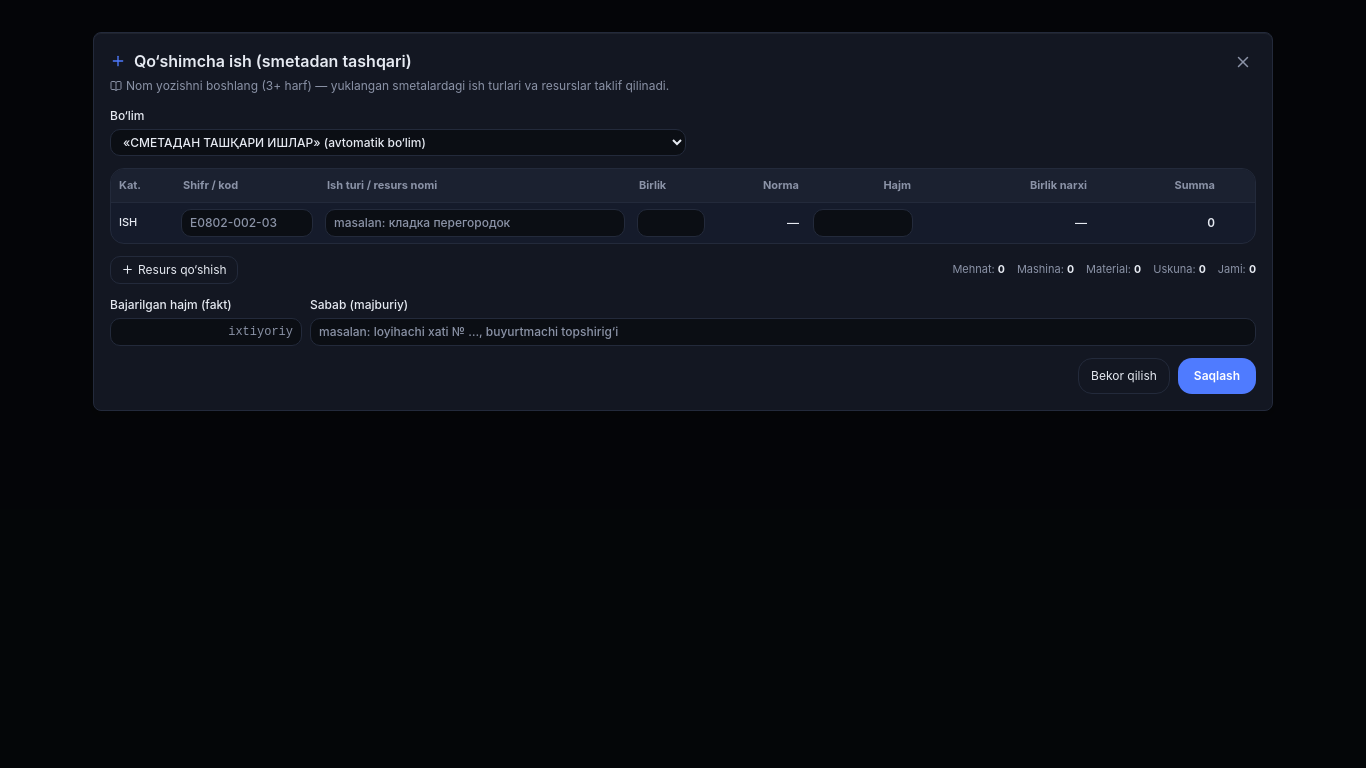
it: IshAbcModal (kichik ABC) › qo‘lda narx — manba "qo‘lda"; xato bo‘lsa saqlanmaydi va sabablar ko‘rsatiladi
Click the button "Resurs qo‘shish" at (174, 270), box [110,256,238,284]
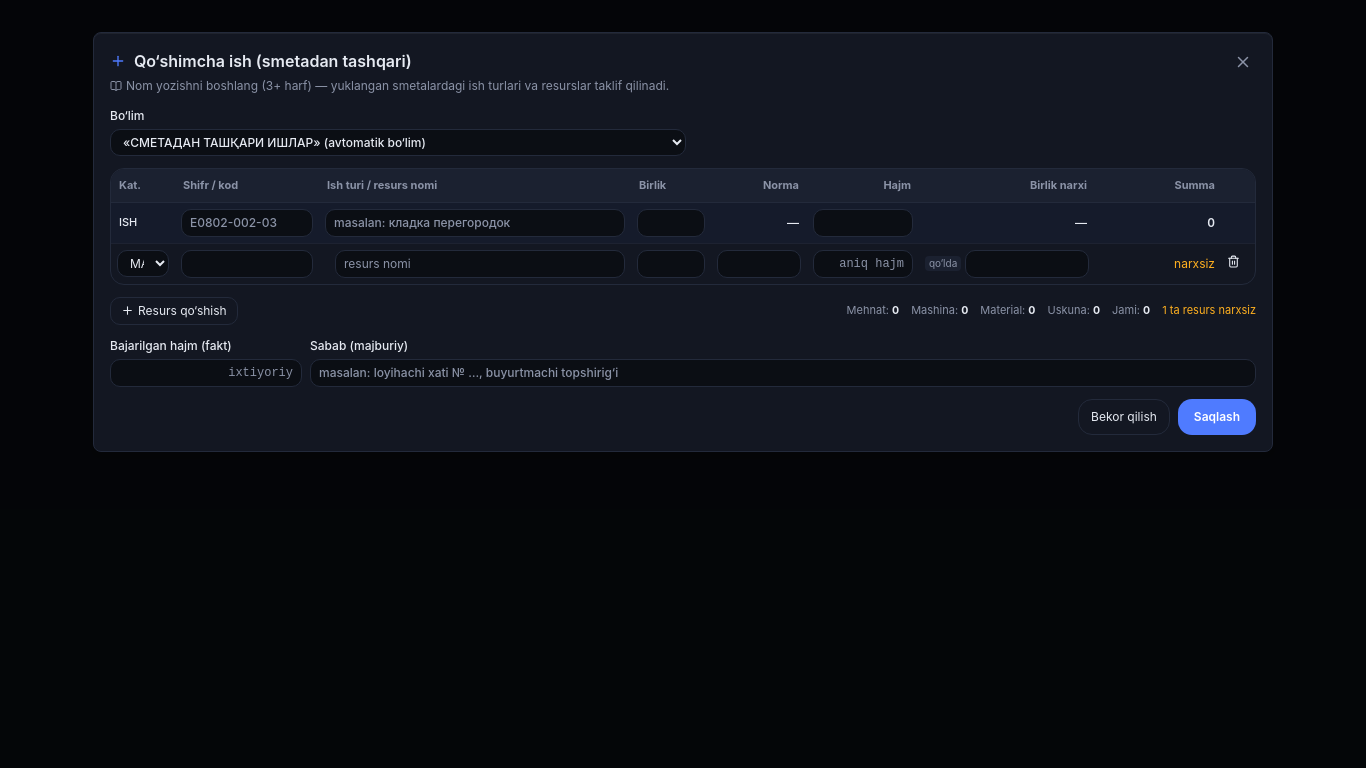
Type "500" into the field named "1-resurs narxi" at (1027, 264), box [965,250,1089,278]
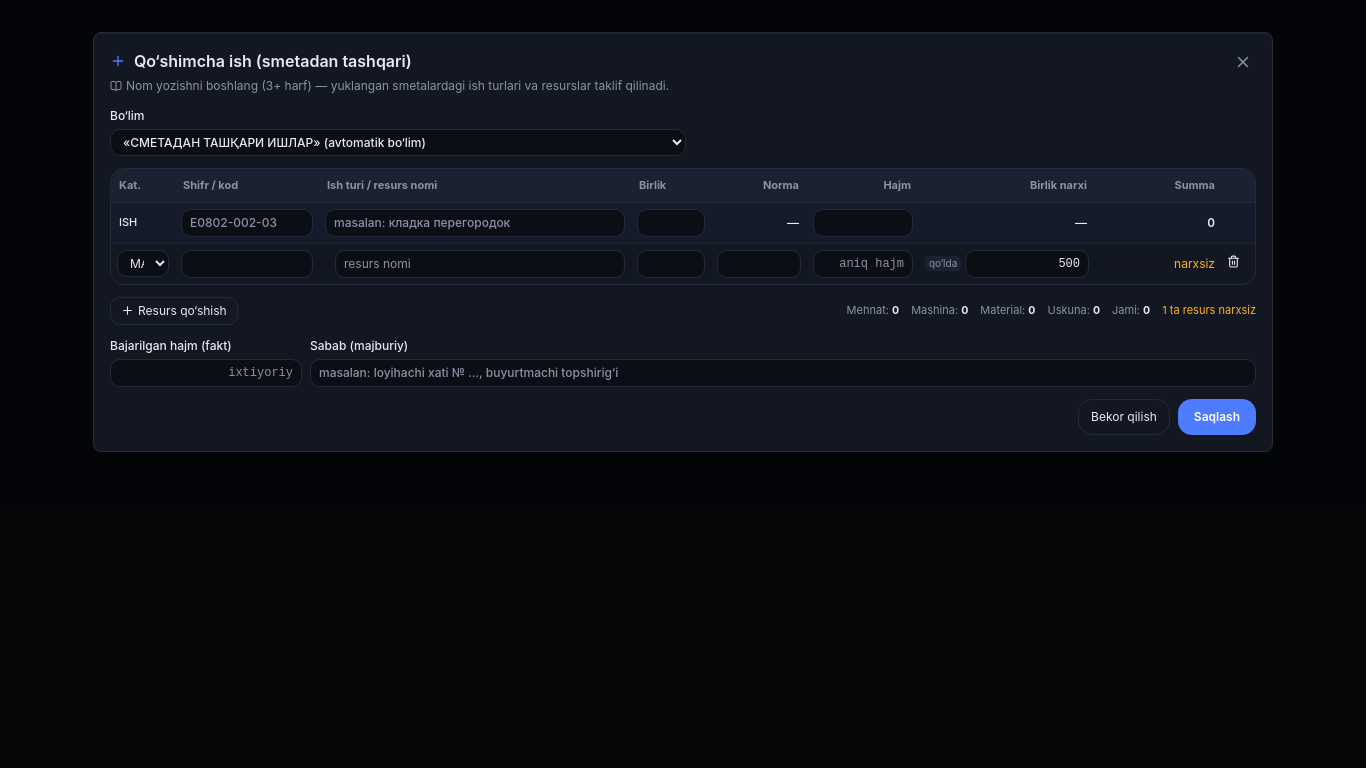
Check: the text titled "Narx manbasi" reads "qo‘lda", box [929,257,957,269]
Click the button "Saqlash" at (1217, 416), box [1178,398,1256,434]
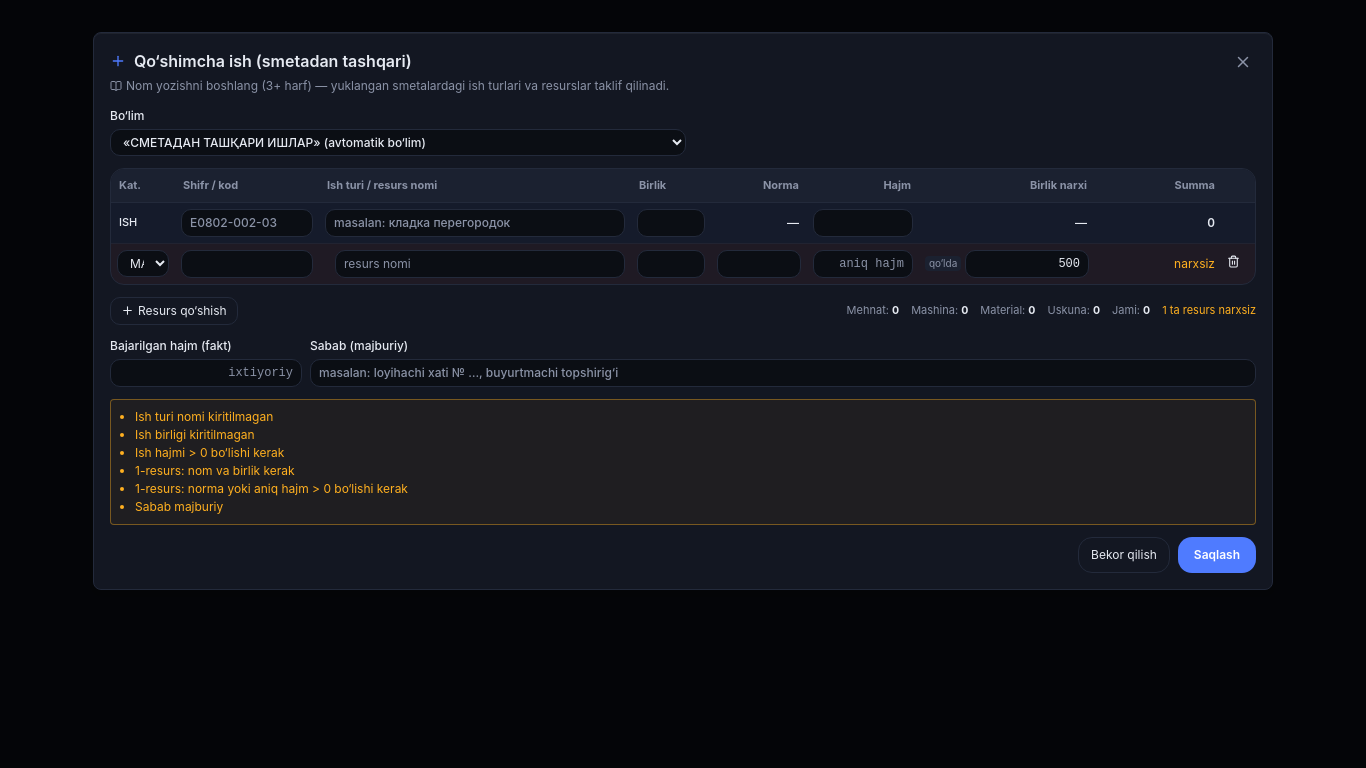
Check: the message shows "Ish turi nomi kiritilmagan", box [135,408,273,424]
